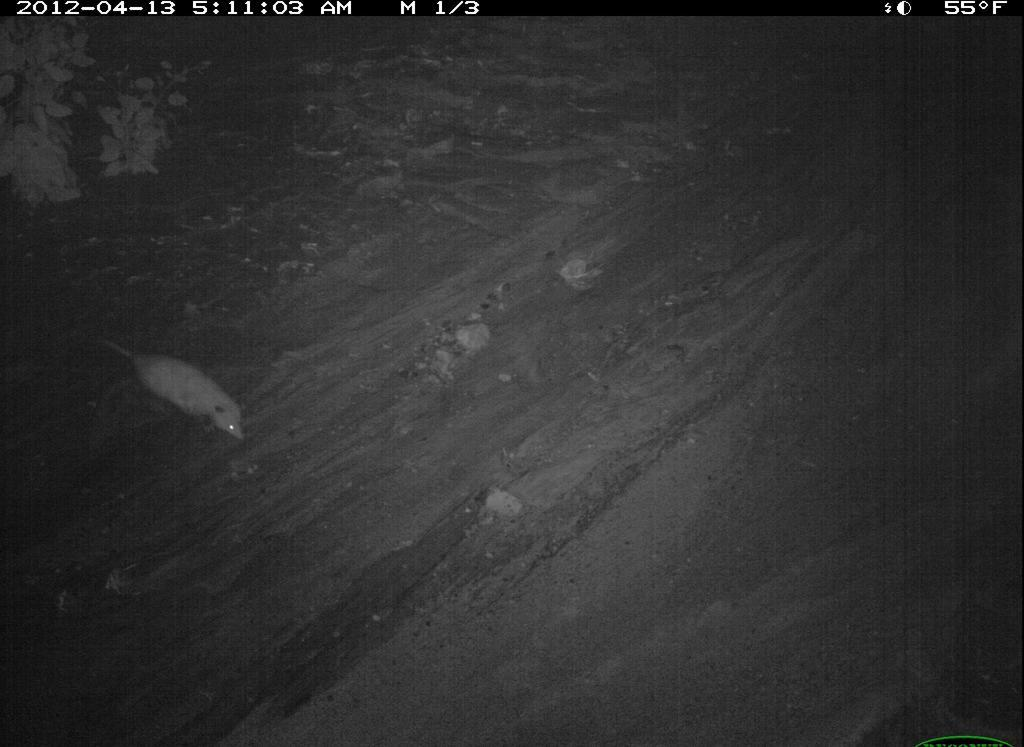opossum: (192, 642, 520, 747)
